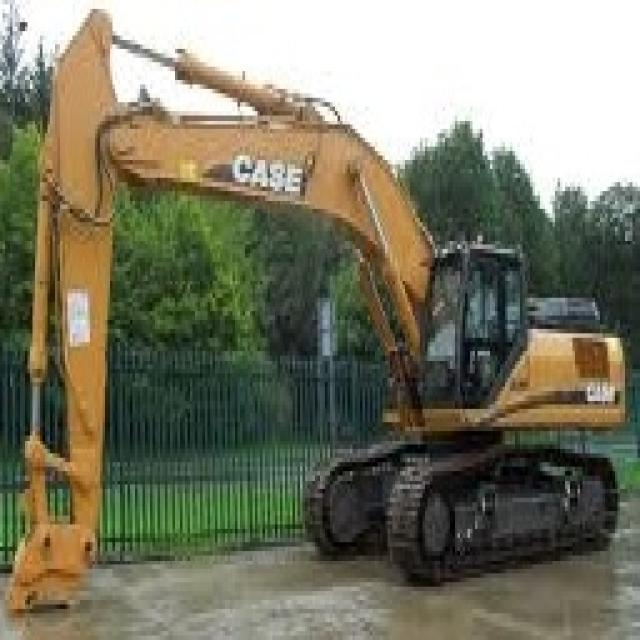excavator: (306, 220, 634, 586)
